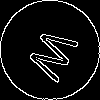W: (25, 25, 88, 88)
